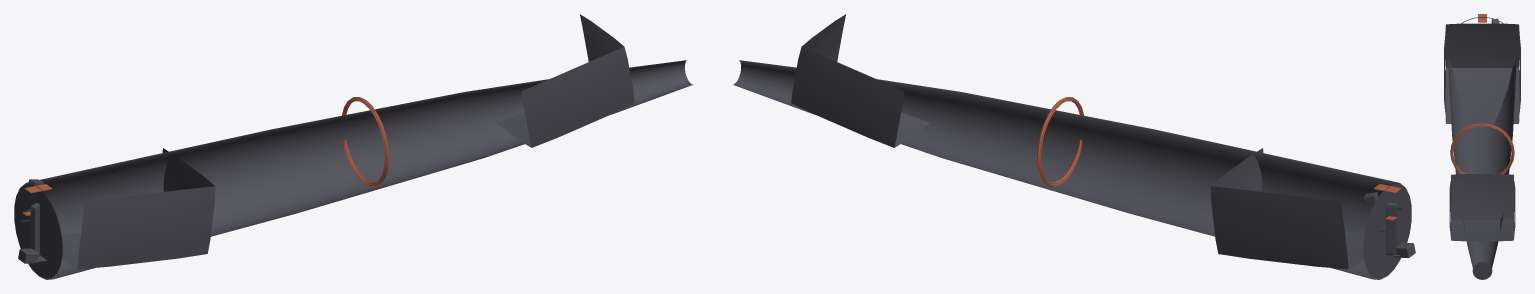
File: _place_dead_hulk_elite_export.glb
3 views of the same model, side by side, from view 1: azimuth 30°, elevation 25°; view 2: azimuth 150°, elevation 25°; view 3: azimuth 270°, elevation 25° (orthographic). The views are drawn at different scales.
Visible parts, largest first — view 1: Hulk_Spine, place_dead_hulk_Material_Mechanical_Merged, Hulk_Fracture_Arc, DET_fracture_arc; view 2: Hulk_Spine, place_dead_hulk_Material_Mechanical_Merged, Hulk_Fracture_Arc, DET_fracture_arc; view 3: place_dead_hulk_Material_Mechanical_Merged, Hulk_Spine, Hulk_Fracture_Arc, DET_edge_chamfer_band.
Boxes of the visible parts, x1,y1,x2,y2 form: Hulk_Spine: [14, 60, 692, 279]; place_dead_hulk_Material_Mechanical_Merged: [61, 14, 634, 269]; Hulk_Fracture_Arc: [342, 97, 389, 186]; DET_fracture_arc: [30, 202, 39, 254]; Hulk_Spine: [733, 60, 1411, 279]; place_dead_hulk_Material_Mechanical_Merged: [791, 14, 1364, 269]; Hulk_Fracture_Arc: [1036, 97, 1084, 186]; DET_fracture_arc: [1386, 202, 1397, 254]; place_dead_hulk_Material_Mechanical_Merged: [1444, 23, 1520, 241]; Hulk_Spine: [1448, 17, 1516, 279]; Hulk_Fracture_Arc: [1450, 123, 1514, 174]; DET_edge_chamfer_band: [1478, 14, 1486, 22].
Size of the model in its own units: 49.55 by 7.71 by 7.
